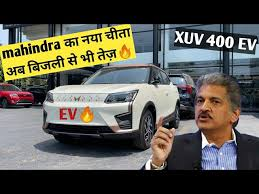XUV 400: (41, 63, 180, 150)
